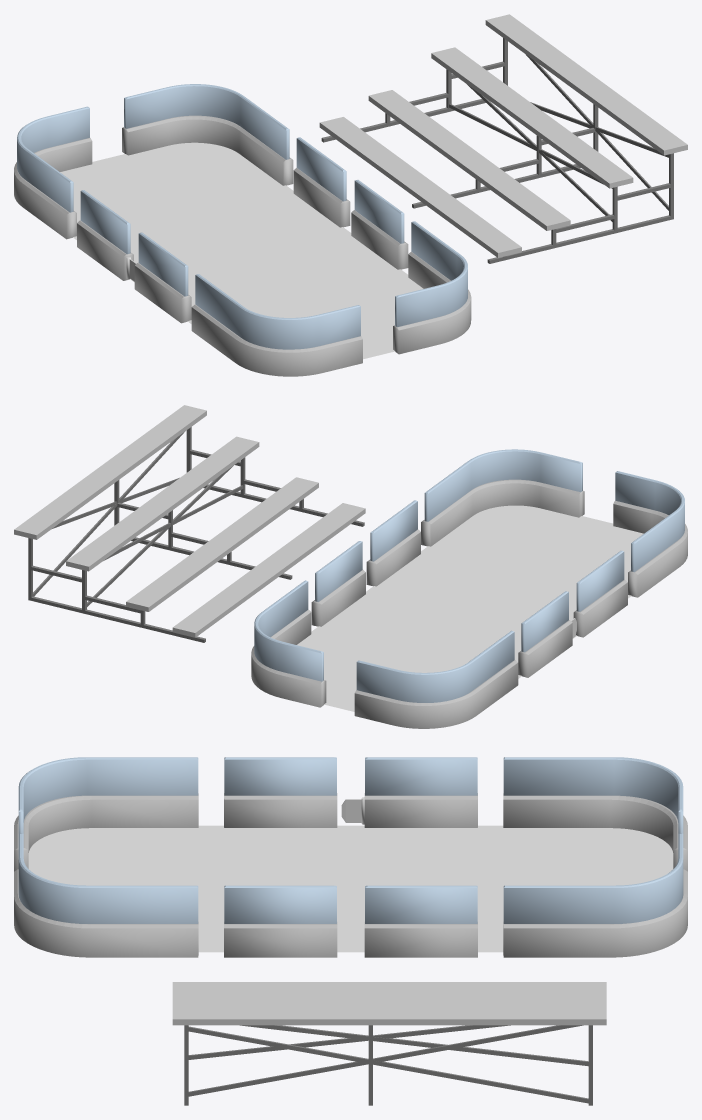
Rendered from rink and bleachers1.fbx.
3 views of the same model, one above another, from view 1: azimuth 30°, elevation 25°; view 2: azimuth 150°, elevation 25°; view 3: azimuth 270°, elevation 25° (orthographic). The views are drawn at different scales.
Visible parts, largest first — view 1: Ice Floor, Rink Glass, Rink Wall, Bleachers, Seat 1, Seat 2, Seat 3, Seat 4; view 2: Ice Floor, Rink Glass, Rink Wall, Bleachers, Seat 2, Seat 4, Seat 1, Seat 3; view 3: Rink Glass, Ice Floor, Rink Wall, Seat 1, Bleachers, Seat 4, Seat 2, Seat 3.
Boxes of the visible parts, x1,y1,x2,y2 form: Ice Floor: [60, 142, 423, 359]; Rink Glass: [17, 84, 467, 349]; Rink Wall: [14, 115, 471, 376]; Bleachers: [321, 38, 673, 263]; Seat 1: [485, 14, 687, 155]; Seat 2: [431, 47, 633, 188]; Seat 3: [368, 90, 570, 230]; Seat 4: [319, 117, 521, 257]; Ice Floor: [297, 505, 643, 711]; Rink Glass: [254, 449, 684, 702]; Rink Wall: [251, 479, 687, 728]; Bleachers: [28, 427, 364, 642]; Seat 2: [66, 436, 259, 571]; Seat 4: [172, 503, 365, 637]; Seat 1: [14, 405, 206, 539]; Seat 3: [126, 477, 318, 611]; Rink Glass: [18, 757, 683, 923]; Ice Floor: [28, 825, 673, 952]; Rink Wall: [14, 793, 687, 957]; Seat 1: [172, 1005, 606, 1025]; Bleachers: [184, 1025, 592, 1105]; Seat 4: [172, 982, 606, 992]; Seat 2: [172, 996, 606, 1004]; Seat 3: [172, 992, 606, 996].
Size of the model in its own units: 428 by 63.66 by 422.
